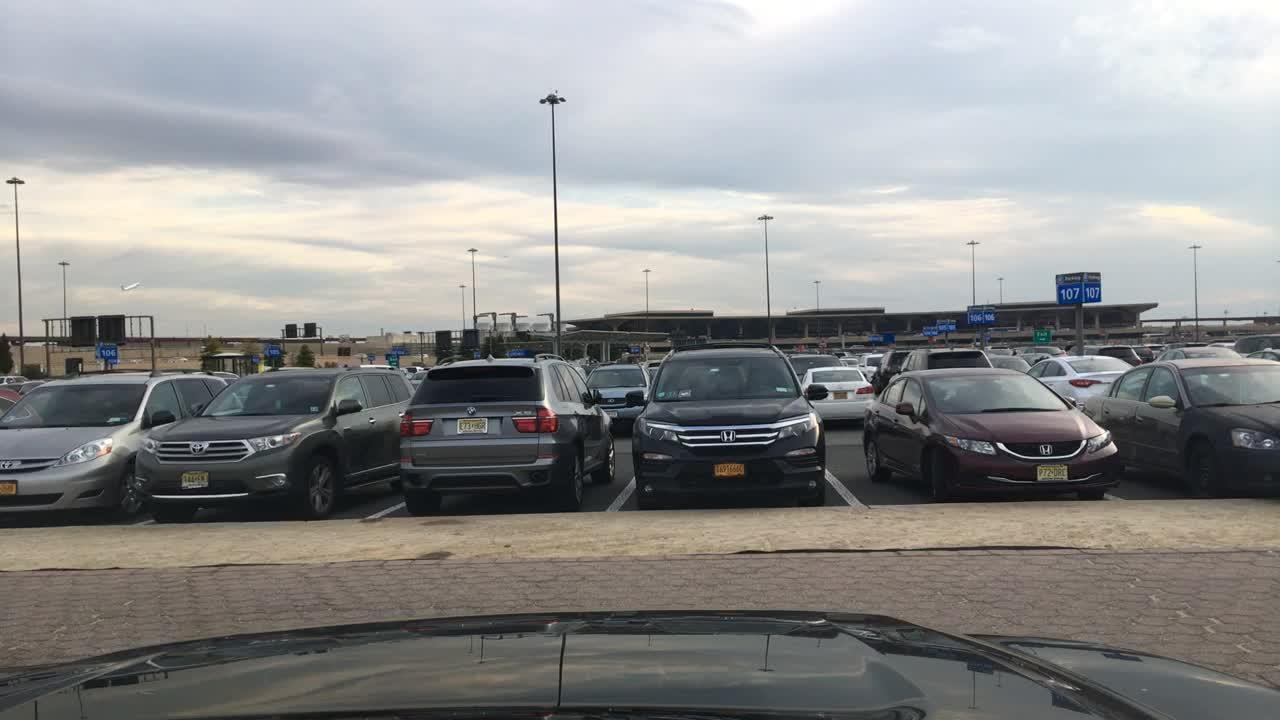Honda: (711, 425, 746, 450), (1034, 440, 1063, 465)
Toyota: (187, 438, 209, 457), (0, 456, 21, 474)
bmw: (458, 402, 487, 423)
